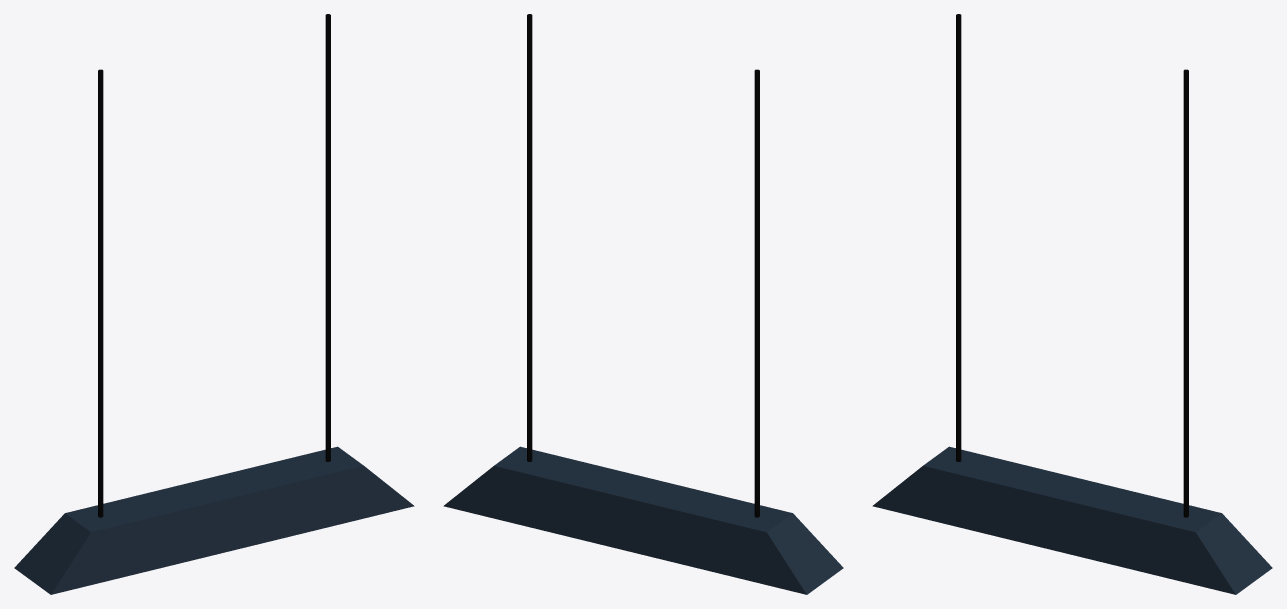
The model's file is light01_long.fbx.
3 renders of one model, left to right at view 1: azimuth 30°, elevation 25°; view 2: azimuth 150°, elevation 25°; view 3: azimuth 330°, elevation 25°, orthographic.
Visible parts, largest first — view 1: Cube; view 2: Cube; view 3: Cube.
Boxes of the visible parts, x1,y1,x2,y2 form: Cube: [14, 14, 414, 594]; Cube: [443, 14, 843, 594]; Cube: [872, 14, 1272, 594].
Size of the model in its own units: 1600 by 2077 by 280.
